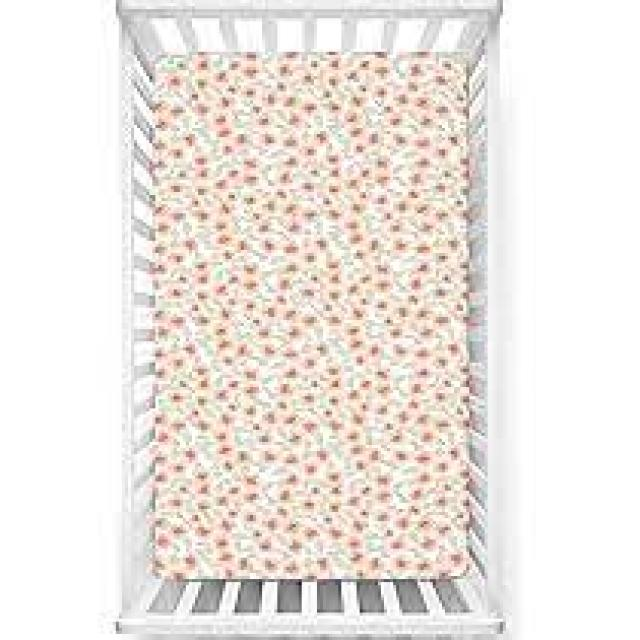crib: (110, 0, 509, 637)
